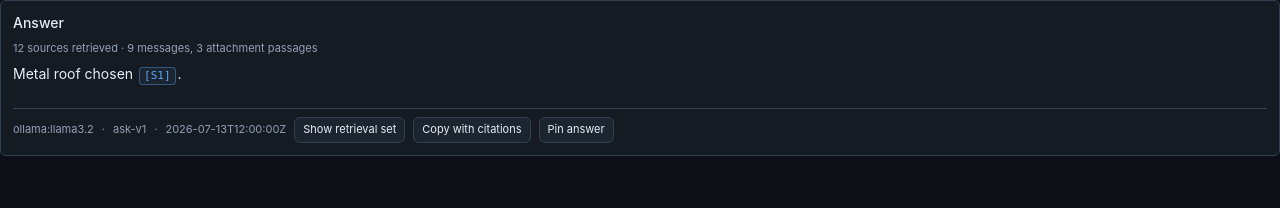
Test: AnswerBlock › streams tokens into text and renders citation chips
The width and height of the screenshot is (1280, 208).
Expected: the text with test id "ask-retrieval-status" shows "12 sources retrieved", x1=13 y1=41 x2=318 y2=55
Expected: the text with test id "ask-retrieval-status" shows "9 messages, 3 attachment", x1=13 y1=41 x2=318 y2=55
Step 1. Click the button with test id "citation-chip-S1" → (157, 76), box x1=139 y1=67 x2=176 y2=85
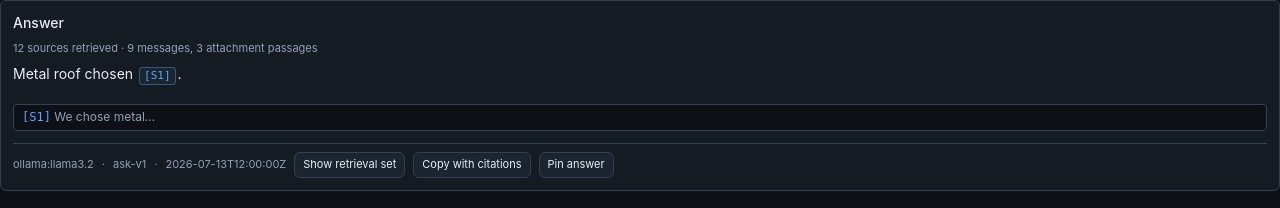
Expected: the text with test id "ask-model-route" reads "ollama:llama3.2", x1=13 y1=157 x2=94 y2=171
Now the element with test id "ask-citation-excerpt" shows "We chose metal", box x1=54 y1=109 x2=155 y2=124
